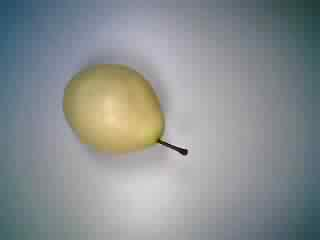pear: (57, 58, 198, 167)
